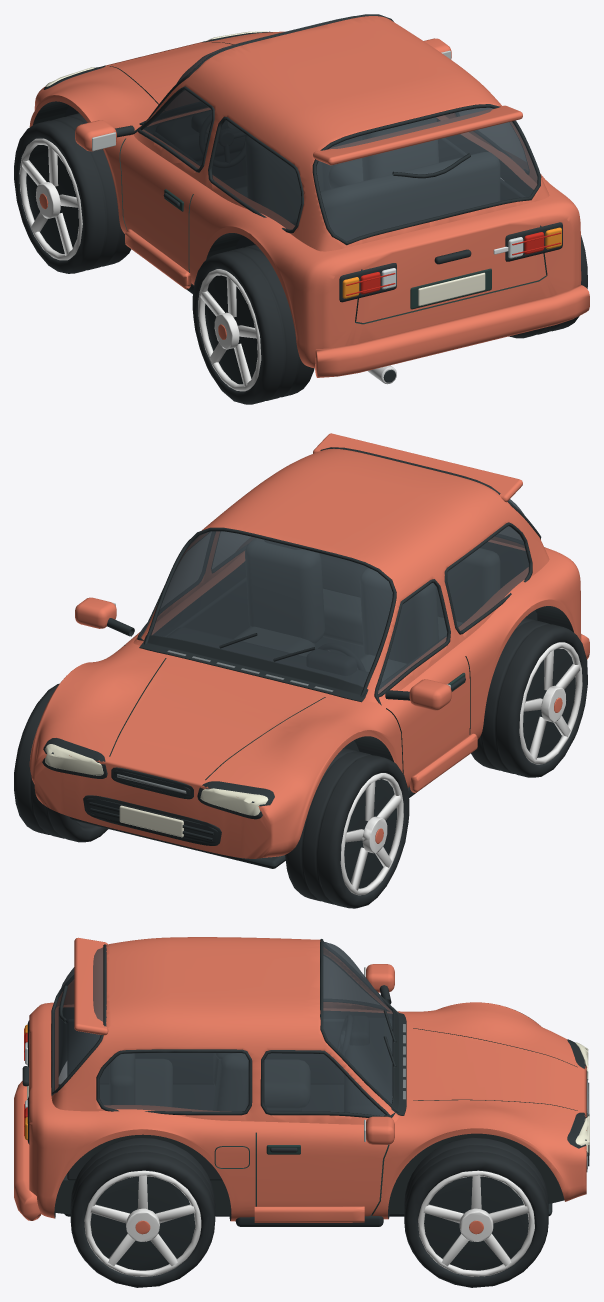
The model's file is tsubasa_lod1.fbx.
3 views of the same model, one above another, from view 1: azimuth 30°, elevation 25°; view 2: azimuth 150°, elevation 25°; view 3: azimuth 270°, elevation 25° (orthographic). The views are drawn at different scales.
Visible parts, largest first — view 1: Body, Wheel_RL_Mesh, Wheel_FL_Mesh, Wheel_RR_Mesh; view 2: Body, Wheel_FL_Mesh, Wheel_RL_Mesh, Wheel_FR_Mesh; view 3: Body, Wheel_RR_Mesh, Wheel_FR_Mesh.
Part boxes in pixels (<box>): Body: <box>29,14,589,384</box>; Wheel_RL_Mesh: <box>192,244,314,404</box>; Wheel_FL_Mesh: <box>14,113,131,273</box>; Wheel_RR_Mesh: <box>509,235,587,338</box>; Body: <box>29,433,589,868</box>; Wheel_FL_Mesh: <box>285,748,409,908</box>; Wheel_RL_Mesh: <box>471,617,587,777</box>; Wheel_FR_Mesh: <box>14,683,108,842</box>; Body: <box>14,937,589,1226</box>; Wheel_RR_Mesh: <box>70,1137,215,1287</box>; Wheel_FR_Mesh: <box>404,1137,548,1287</box>.
Bounding box in the file's own units: 230 × 157 × 335.
